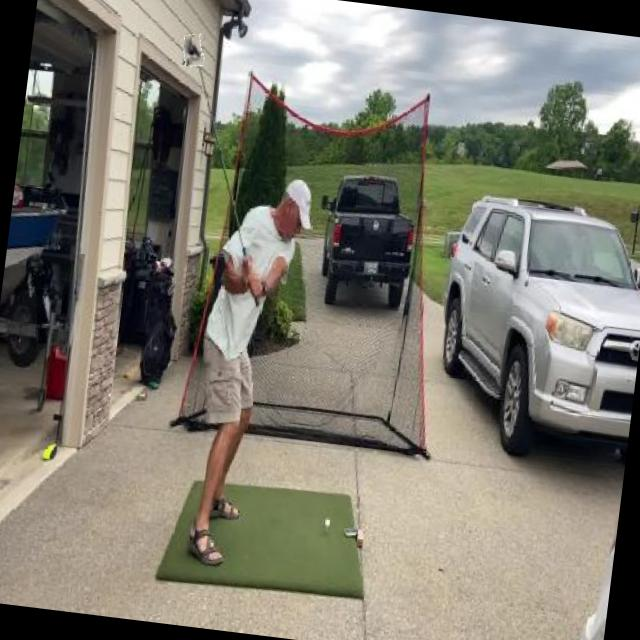club head: (182, 32, 206, 68)
